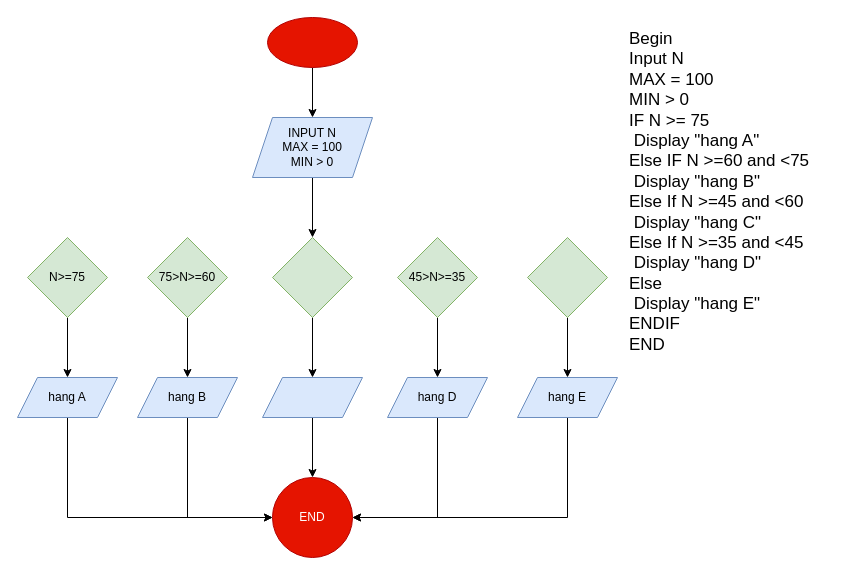
The diagram is 845 pixels wide and 575 high, and some of its shapes have lost their labels. Here are the shapes that lost their labels. From the top down, the centre of each, then its label:
At point (312, 42): "BEGIN".
At point (312, 277): "60>N>=45".
At point (567, 277): "N>35".
At point (312, 397): "hang C".
